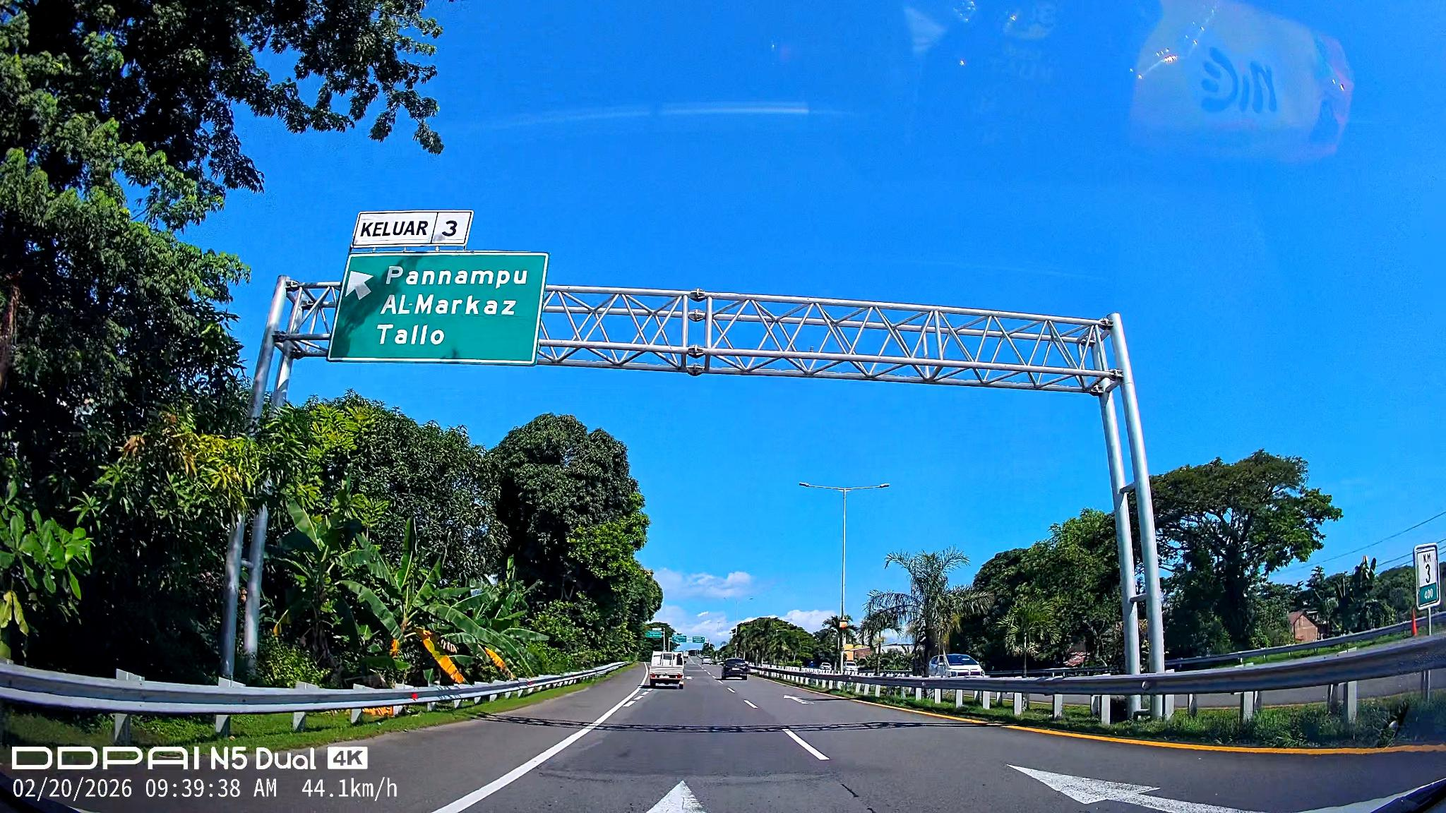rambu_teks: (333, 251, 541, 367)
